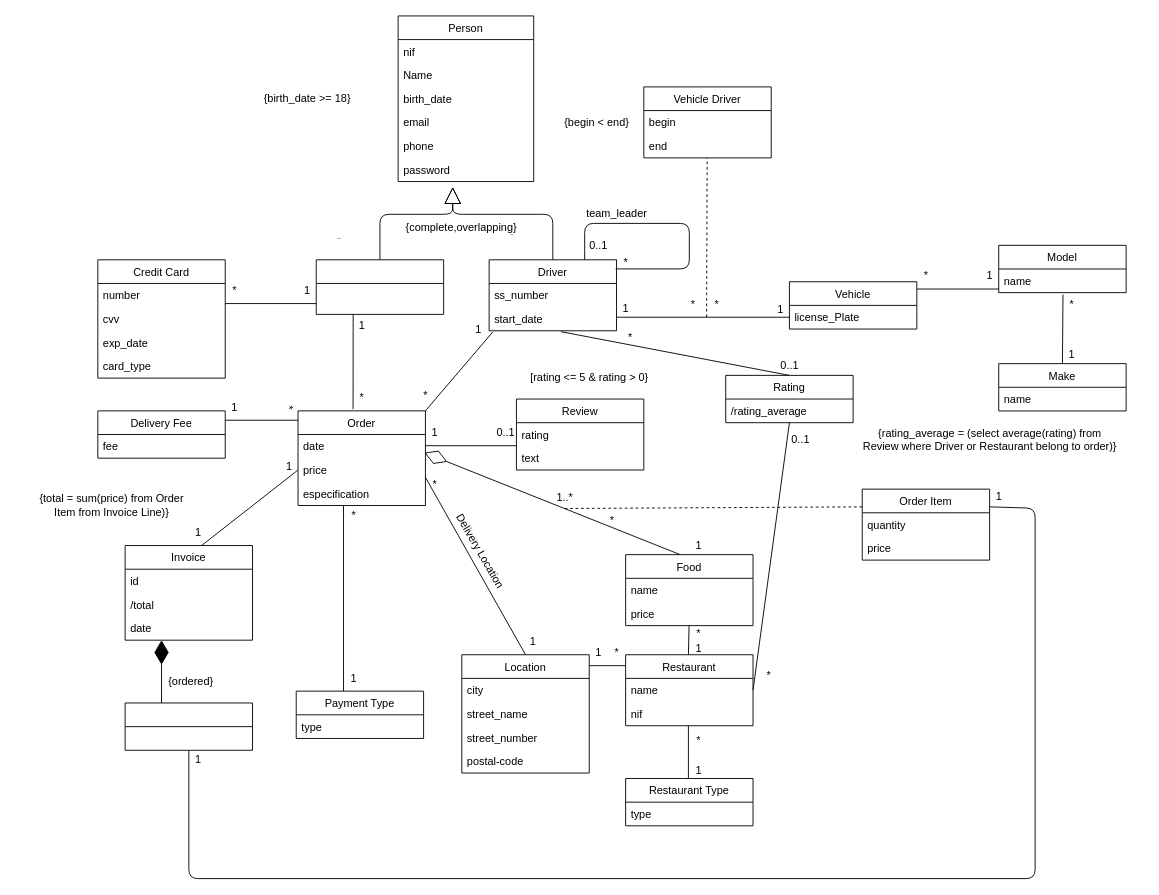
This 1159x895 diagram has some shape labels left out. The shapes that lost their labels are listed below. From the top down, each one's centre as x and y in pixels, then its label:
At point 379,286: "Customer".
At point 188,726: "Invoice Line".
